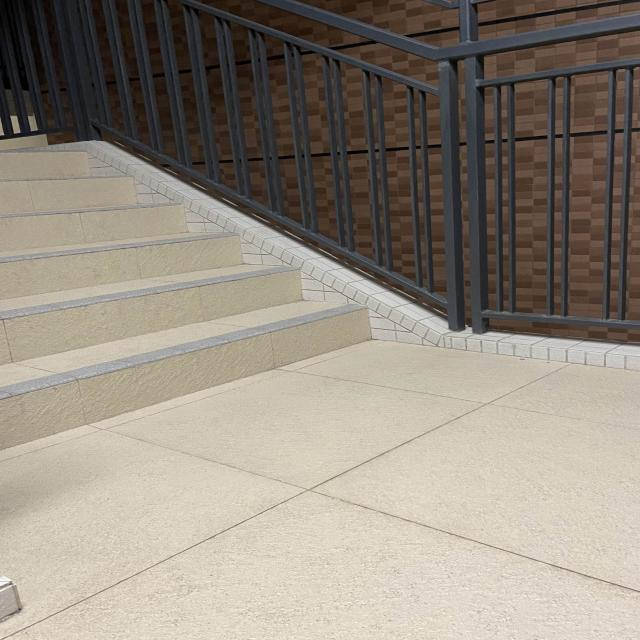Stairs: (0, 118, 383, 445)
